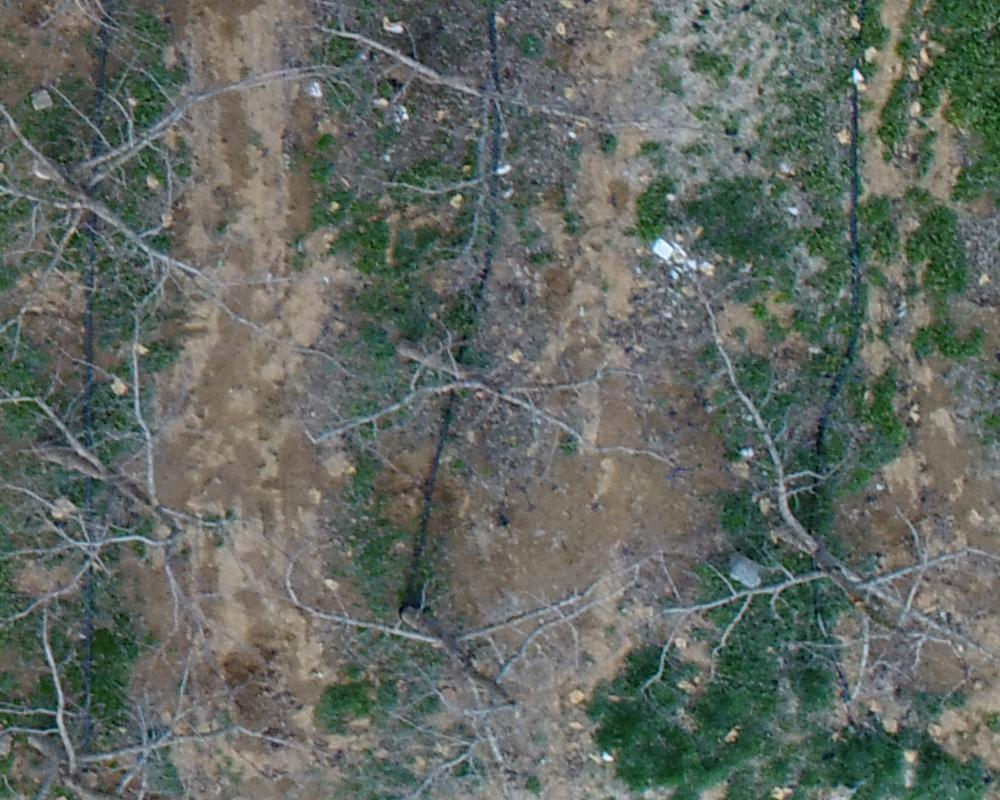apple: (631, 293, 990, 756), (10, 20, 376, 351), (259, 540, 673, 790), (316, 10, 656, 309), (10, 304, 258, 657), (295, 313, 693, 527)
